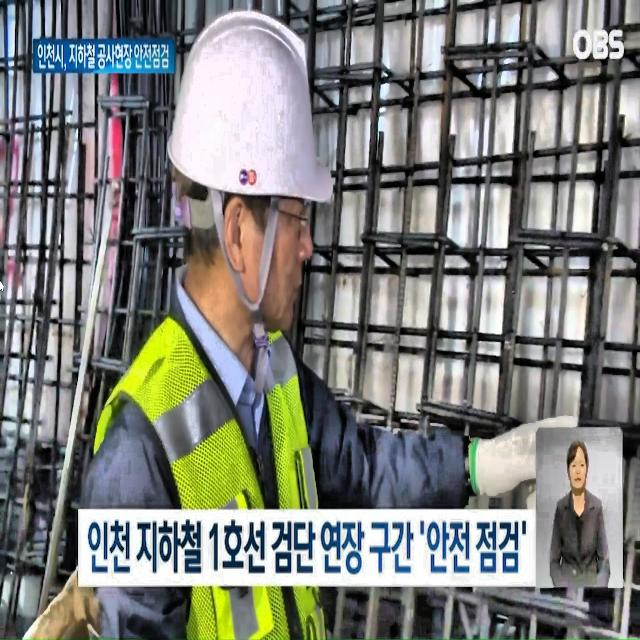safety_helmet: (165, 8, 341, 212)
safety_jacket: (88, 304, 330, 640)
